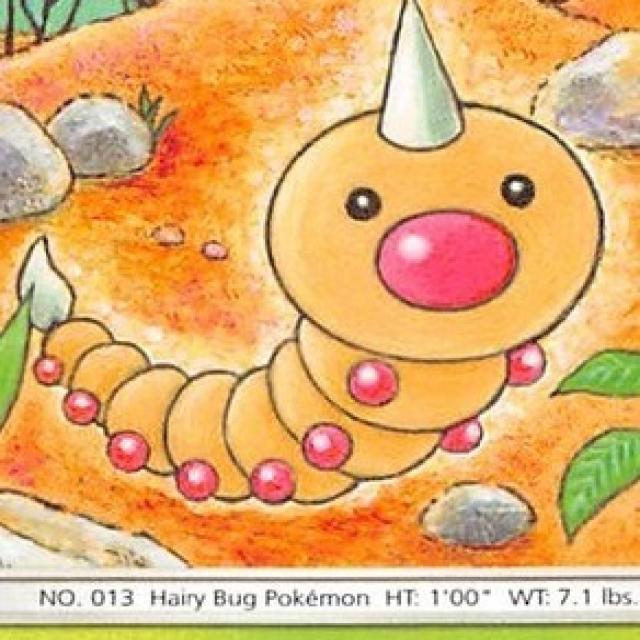Weedle: (167, 4, 596, 539)
